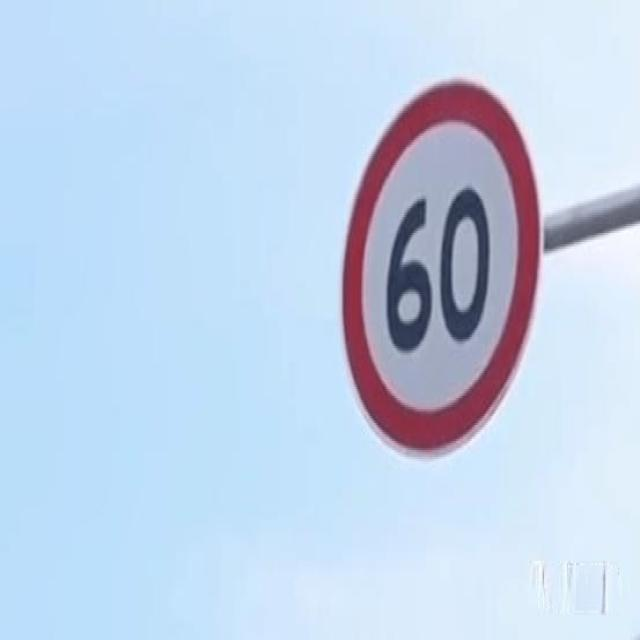speed limit 60: (339, 73, 540, 460)
